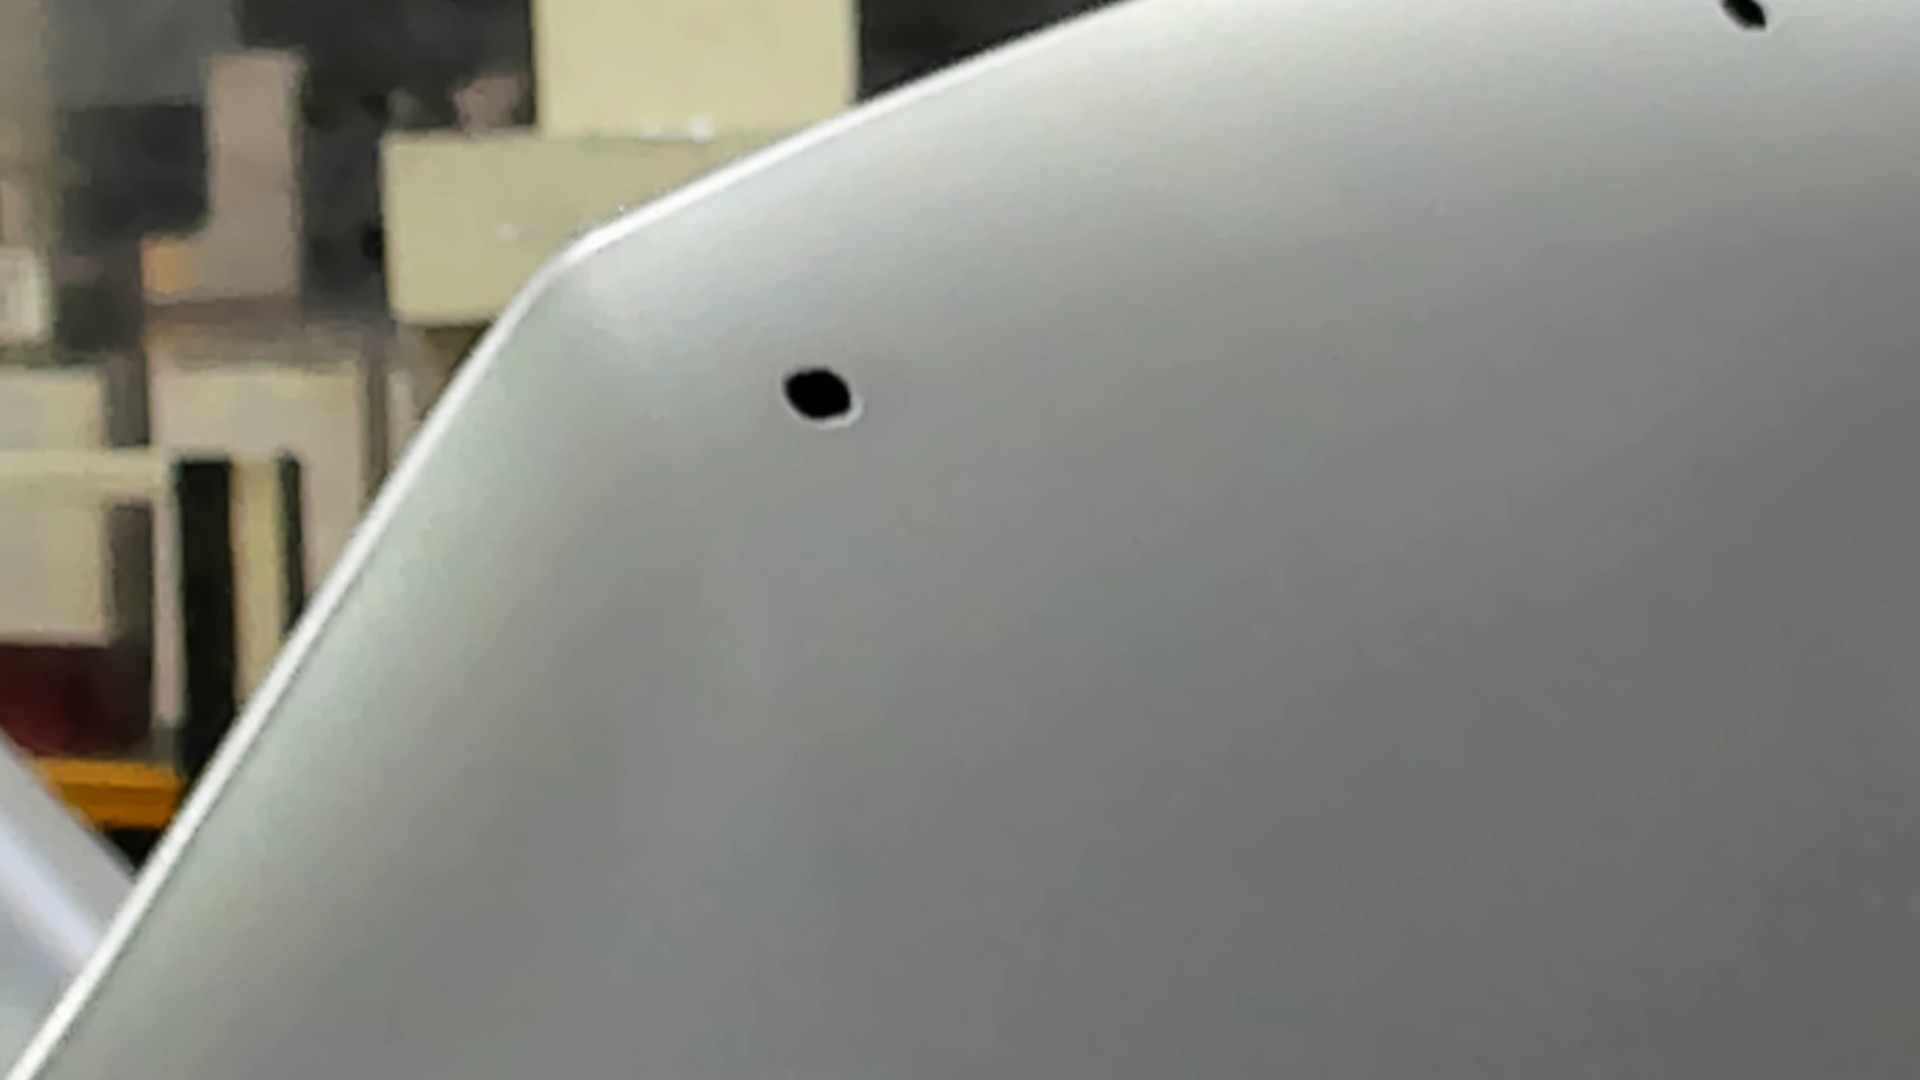amorfo: (773, 357, 868, 433), (1712, 1, 1780, 45)
